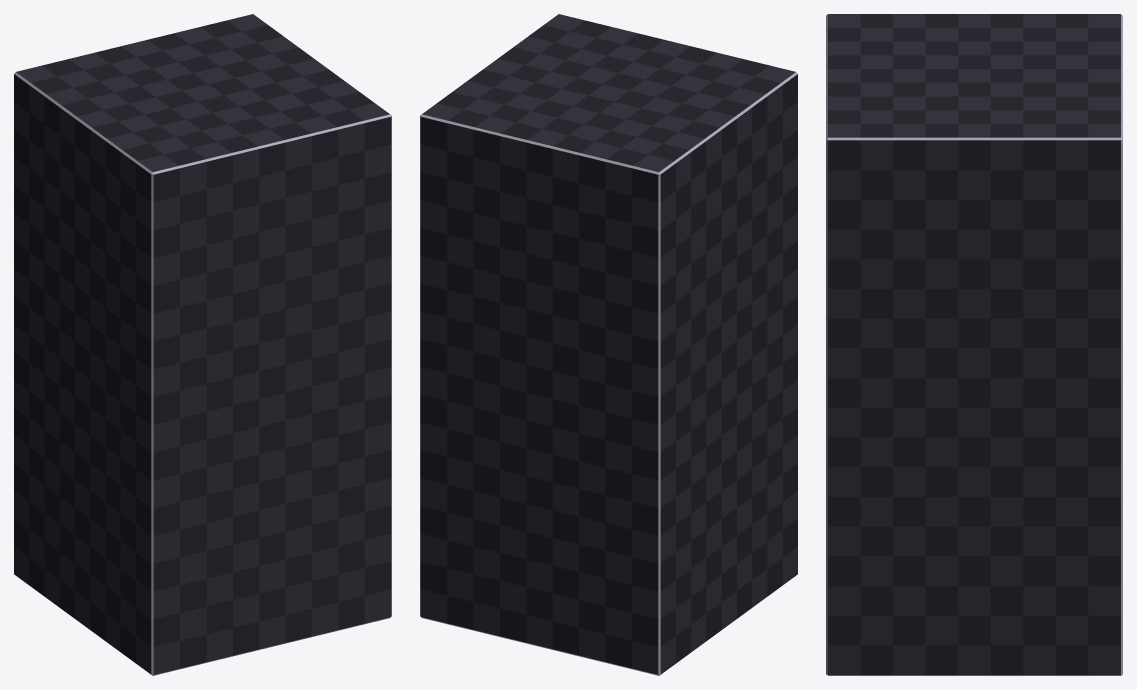
File: PMP-M-Ground-Main-3x3x6-V1.fbx
3 views of the same model, side by side, from view 1: azimuth 30°, elevation 25°; view 2: azimuth 150°, elevation 25°; view 3: azimuth 270°, elevation 25° (orthographic). The views are drawn at different scales.
Parts seen in each view (by area): view 1: MONO_Terrain-A-3x3x8; view 2: MONO_Terrain-A-3x3x8; view 3: MONO_Terrain-A-3x3x8.
Part boxes in pixels (x1,y1,x2,y2): MONO_Terrain-A-3x3x8: (14,14,391,675); MONO_Terrain-A-3x3x8: (420,14,797,675); MONO_Terrain-A-3x3x8: (826,14,1122,675).
Size of the model in its own units: 300 by 600 by 300.
